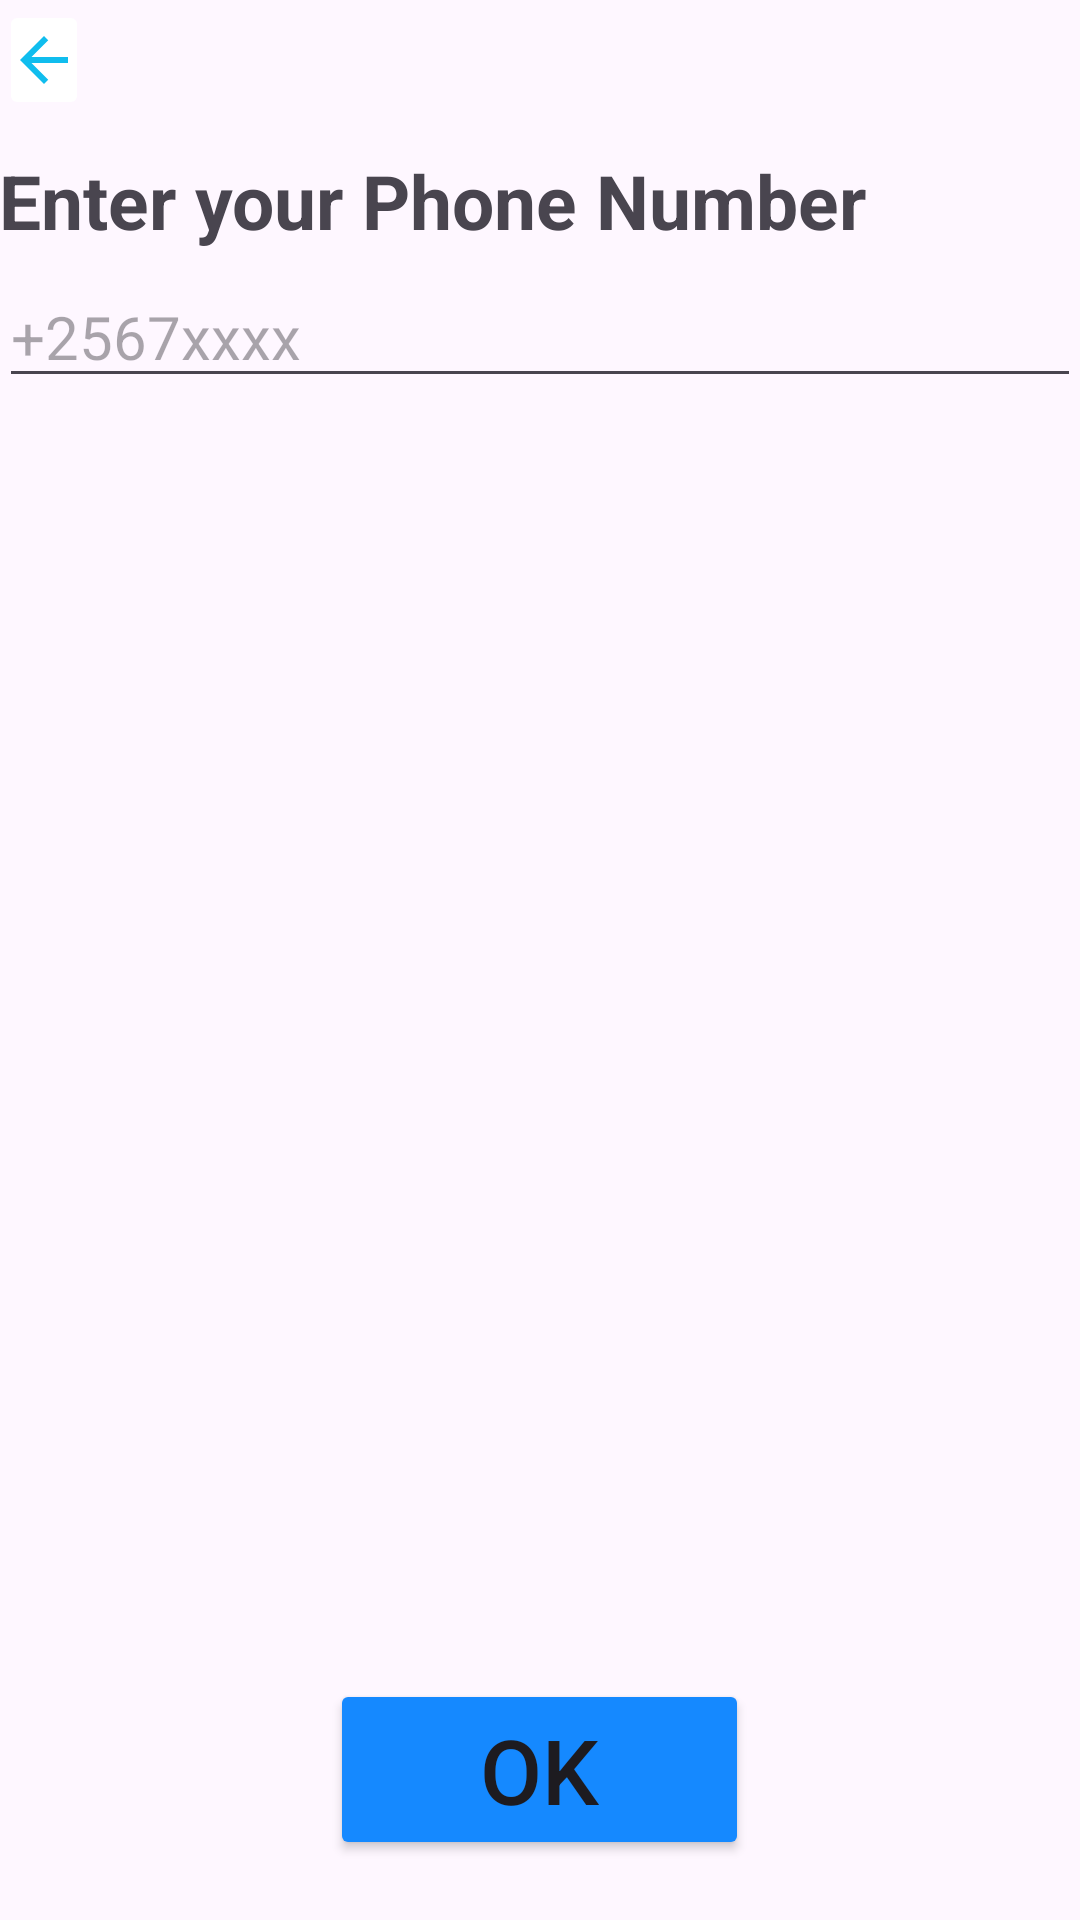

Screen size 1080x1920. Icon name, then its box in pixels as (x1, y1, x2, y2):
arrow back: (20, 36, 68, 84)
